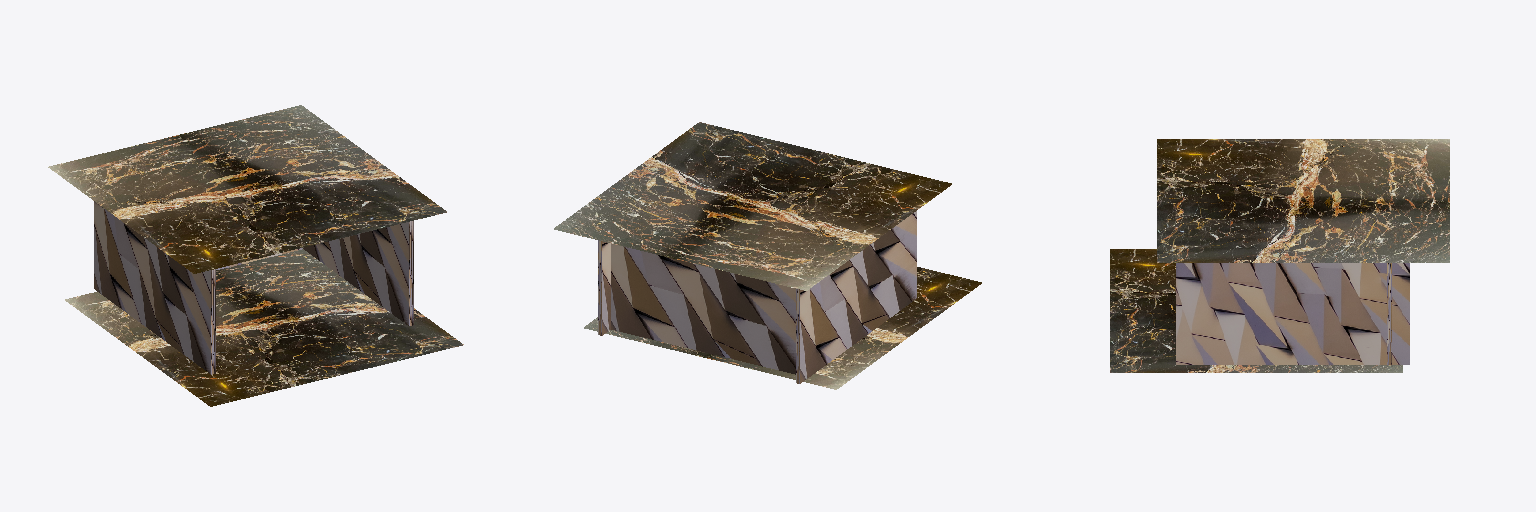
The picture shows the model from 3 angles: view 1: azimuth 30°, elevation 25°; view 2: azimuth 150°, elevation 25°; view 3: azimuth 270°, elevation 25°; orthographic projection.
Visible parts, largest first — view 1: Object_44_Object_21, Object_44.001_Object_21.001, Object_40_Object_19, Object_42_Object_20; view 2: Object_44_Object_21, Object_6_Object_1, Object_40_Object_19, Object_44.001_Object_21.001, Object_42_Object_20; view 3: Object_44_Object_21, Object_42_Object_20, Object_44.001_Object_21.001.
Part boxes in pixels (left/top/right/bottom): Object_44_Object_21: left=48, top=105, right=446, bottom=273; Object_44.001_Object_21.001: left=65, top=249, right=463, bottom=406; Object_40_Object_19: left=94, top=201, right=215, bottom=374; Object_42_Object_20: left=303, top=221, right=413, bottom=325; Object_44_Object_21: left=554, top=122, right=951, bottom=290; Object_6_Object_1: left=611, top=244, right=795, bottom=374; Object_40_Object_19: left=796, top=211, right=916, bottom=383; Object_44.001_Object_21.001: left=584, top=267, right=981, bottom=389; Object_42_Object_20: left=598, top=240, right=610, bottom=335; Object_44_Object_21: left=1157, top=139, right=1449, bottom=262; Object_42_Object_20: left=1176, top=263, right=1409, bottom=364; Object_44.001_Object_21.001: left=1110, top=249, right=1402, bottom=372.
Bounding box in the file's own units: 15.05 × 6.3 × 16.98.
Materials: 5 (2 with a texture image).